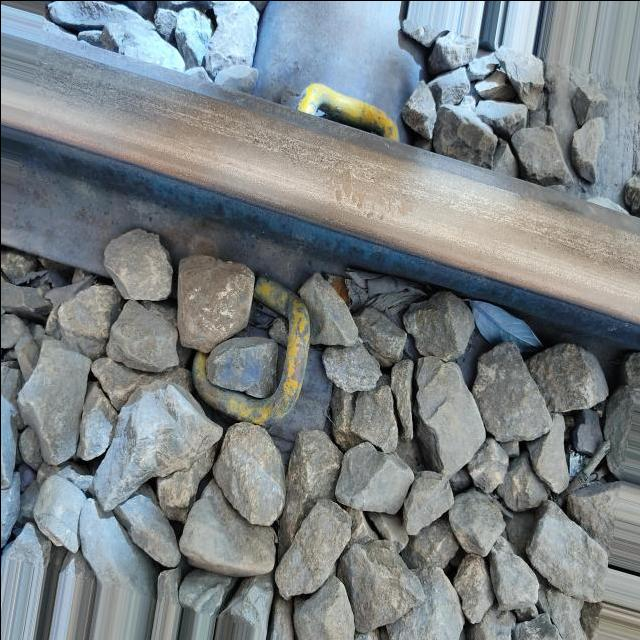squats_high: (365, 190, 417, 222), (334, 165, 364, 210)
